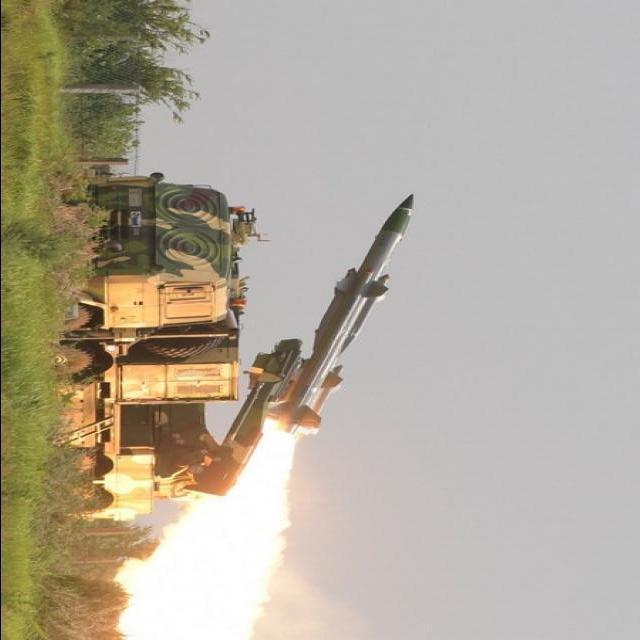missile: (283, 193, 417, 439)
